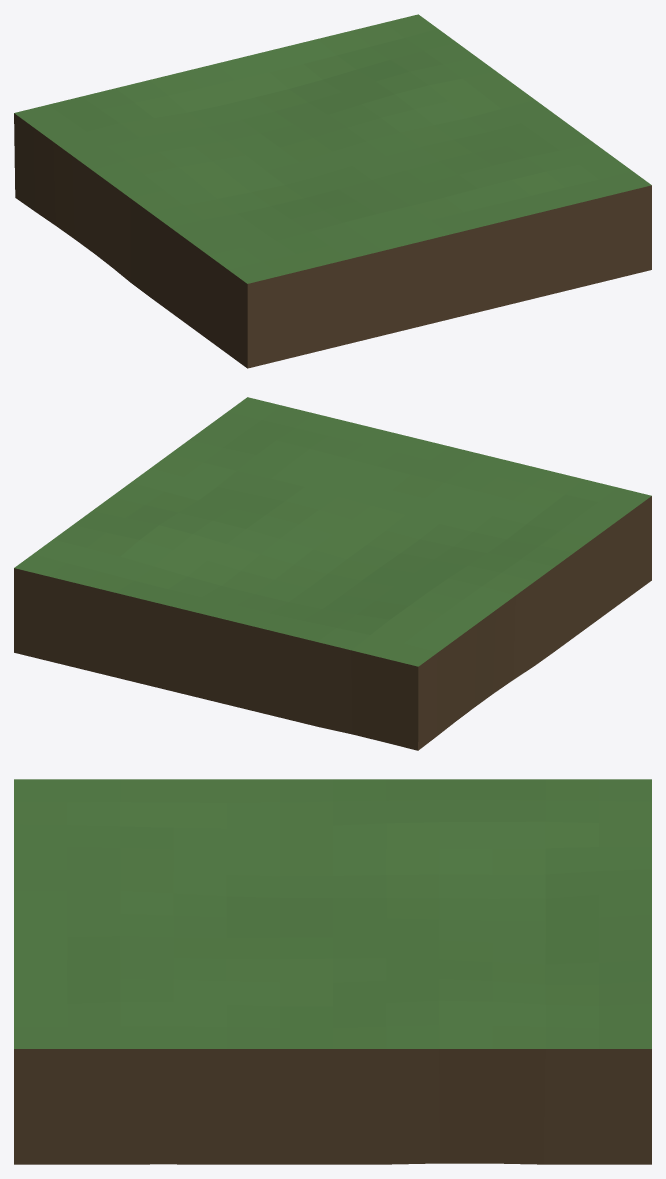
File: grass_01.glb
3 renders of one model, top to bottom at view 1: azimuth 30°, elevation 25°; view 2: azimuth 150°, elevation 25°; view 3: azimuth 270°, elevation 25°, orthographic. The views are drawn at different scales.
Visible parts, largest first — view 1: Grid; view 2: Grid; view 3: Grid.
Boxes of the visible parts, left/top/right/bottom form: Grid: left=14, top=14, right=651, bottom=368; Grid: left=14, top=397, right=651, bottom=750; Grid: left=14, top=779, right=651, bottom=1164.
Size of the model in its own units: 1 by 0.2057 by 1.
